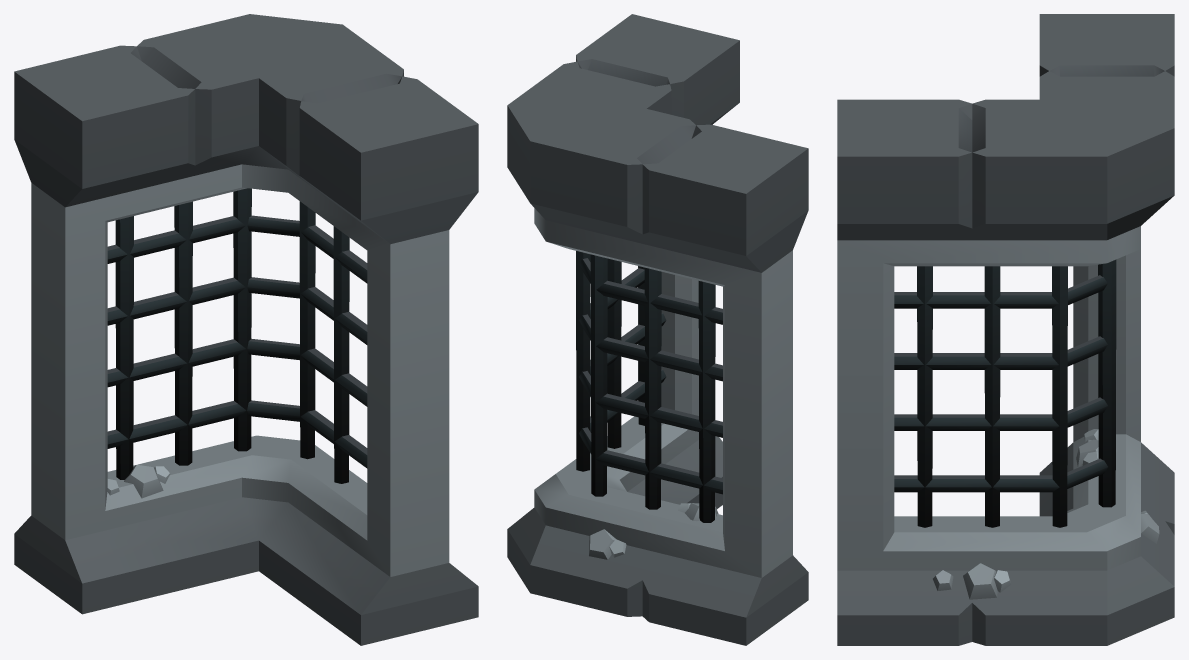
Rendered from wall_corner_gated.gltf.
The picture shows the model from 3 angles, left to right: view 1: azimuth 30°, elevation 25°; view 2: azimuth 150°, elevation 25°; view 3: azimuth 270°, elevation 25°; orthographic projection. The views are drawn at different scales.
Visible parts, largest first — view 1: wall_corner_gated; view 2: wall_corner_gated; view 3: wall_corner_gated.
Boxes of the visible parts, bbox=[...] form: wall_corner_gated: bbox=[14, 14, 478, 645]; wall_corner_gated: bbox=[507, 14, 808, 645]; wall_corner_gated: bbox=[837, 14, 1174, 645].
Bounding box in the file's own units: 2.5 × 4 × 2.5.
Materials: 1 (1 with a texture image).
